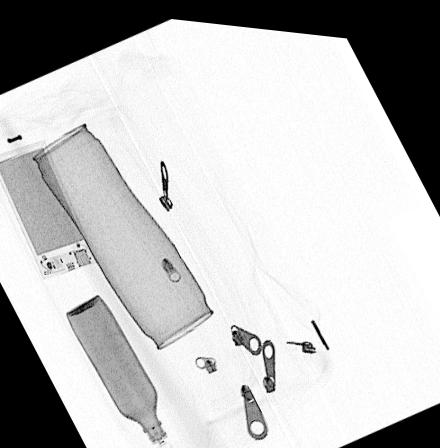Powerbank: (0, 140, 98, 280)
